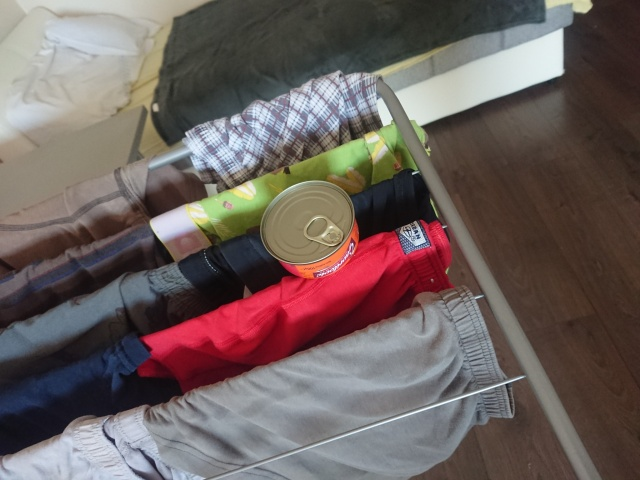Gavrilovic Pork Liver Pate 100g: (256, 176, 362, 283)
